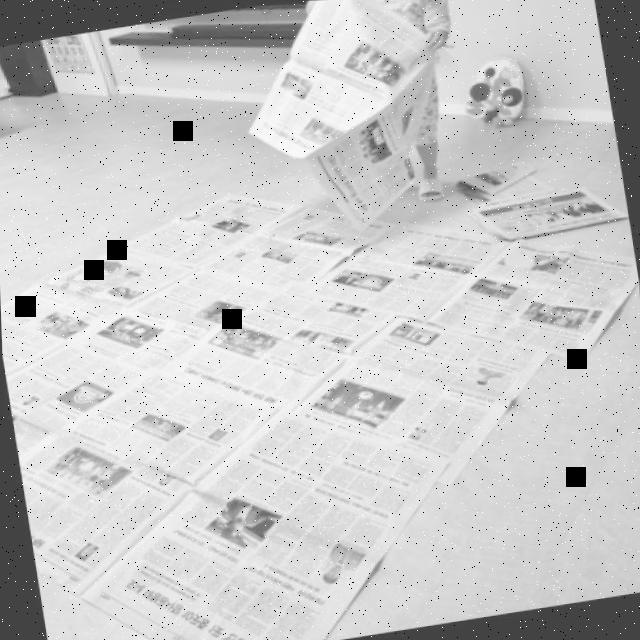reuseable_paper: (0, 169, 578, 640)
